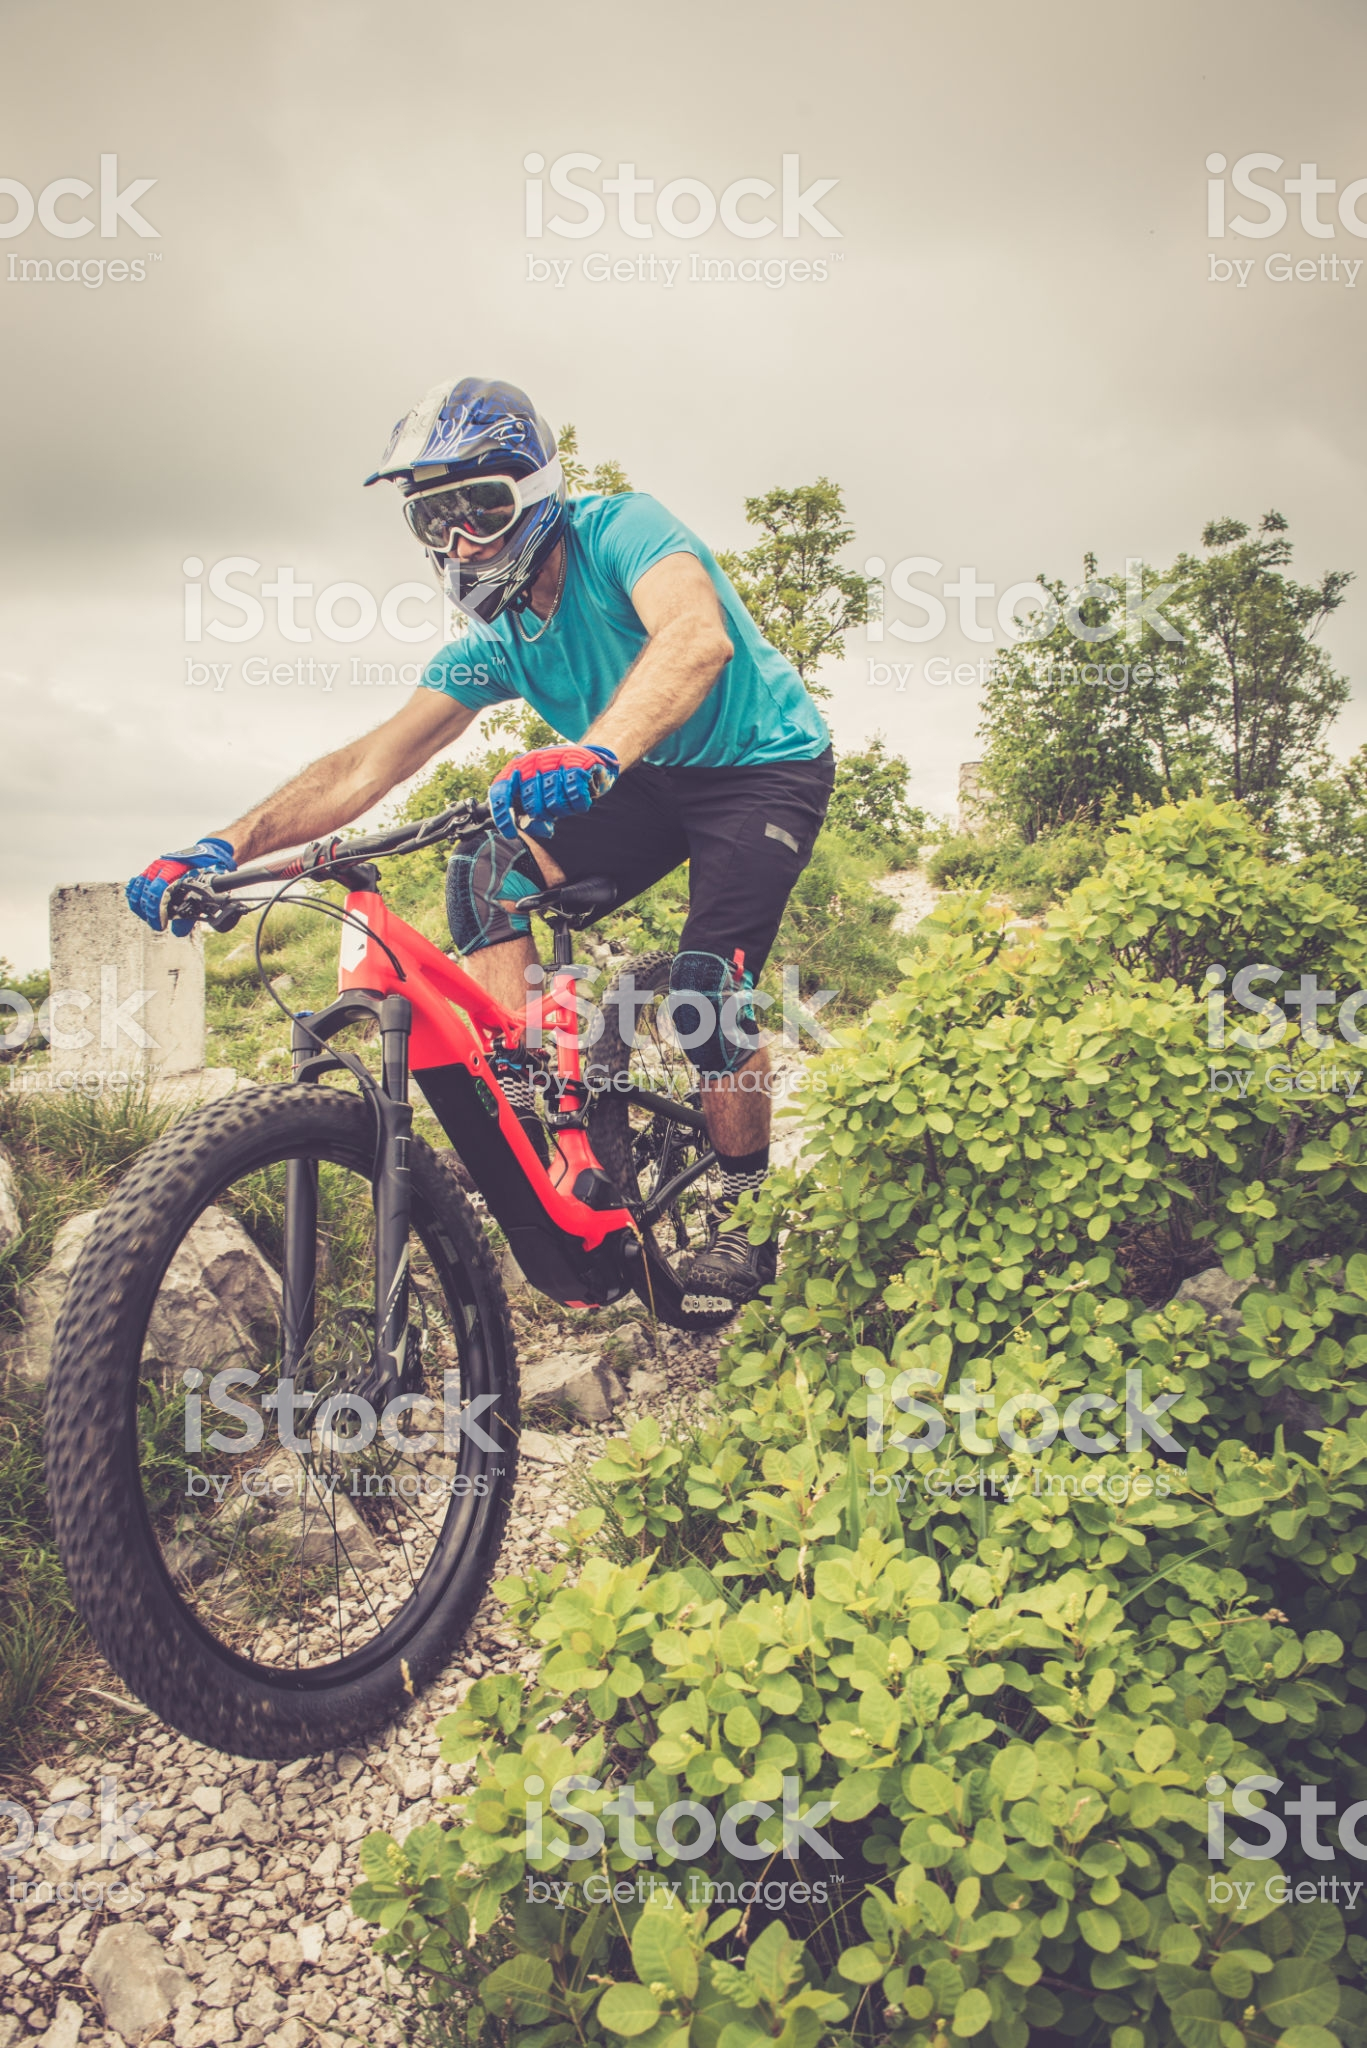helmet: (380, 369, 603, 613)
